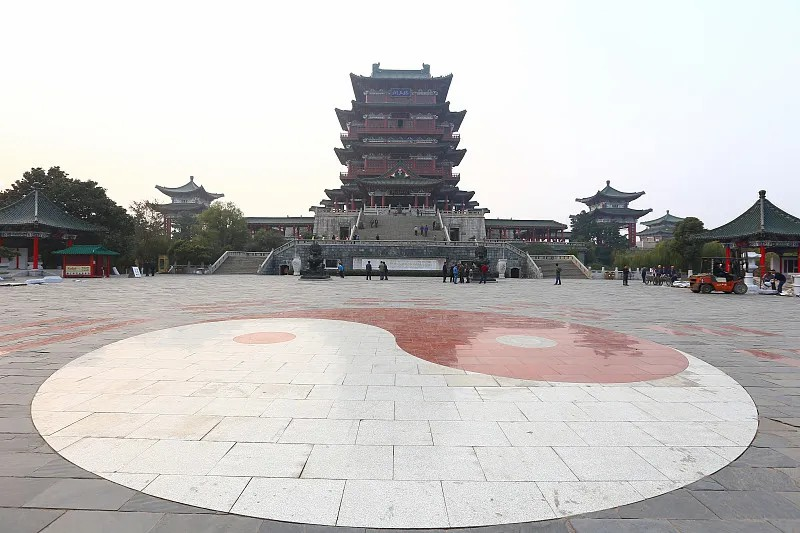Teng: (319, 61, 479, 211)
